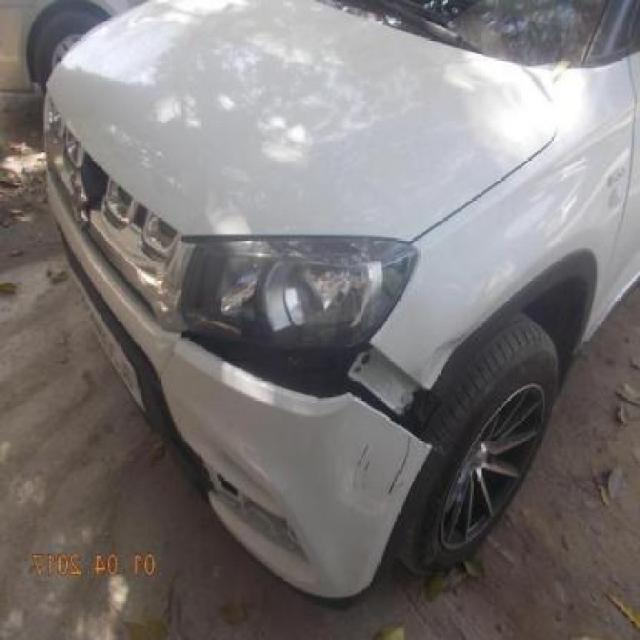damage: (176, 331, 432, 453), (418, 332, 465, 391), (384, 434, 416, 505), (150, 326, 181, 382), (343, 439, 372, 495)
